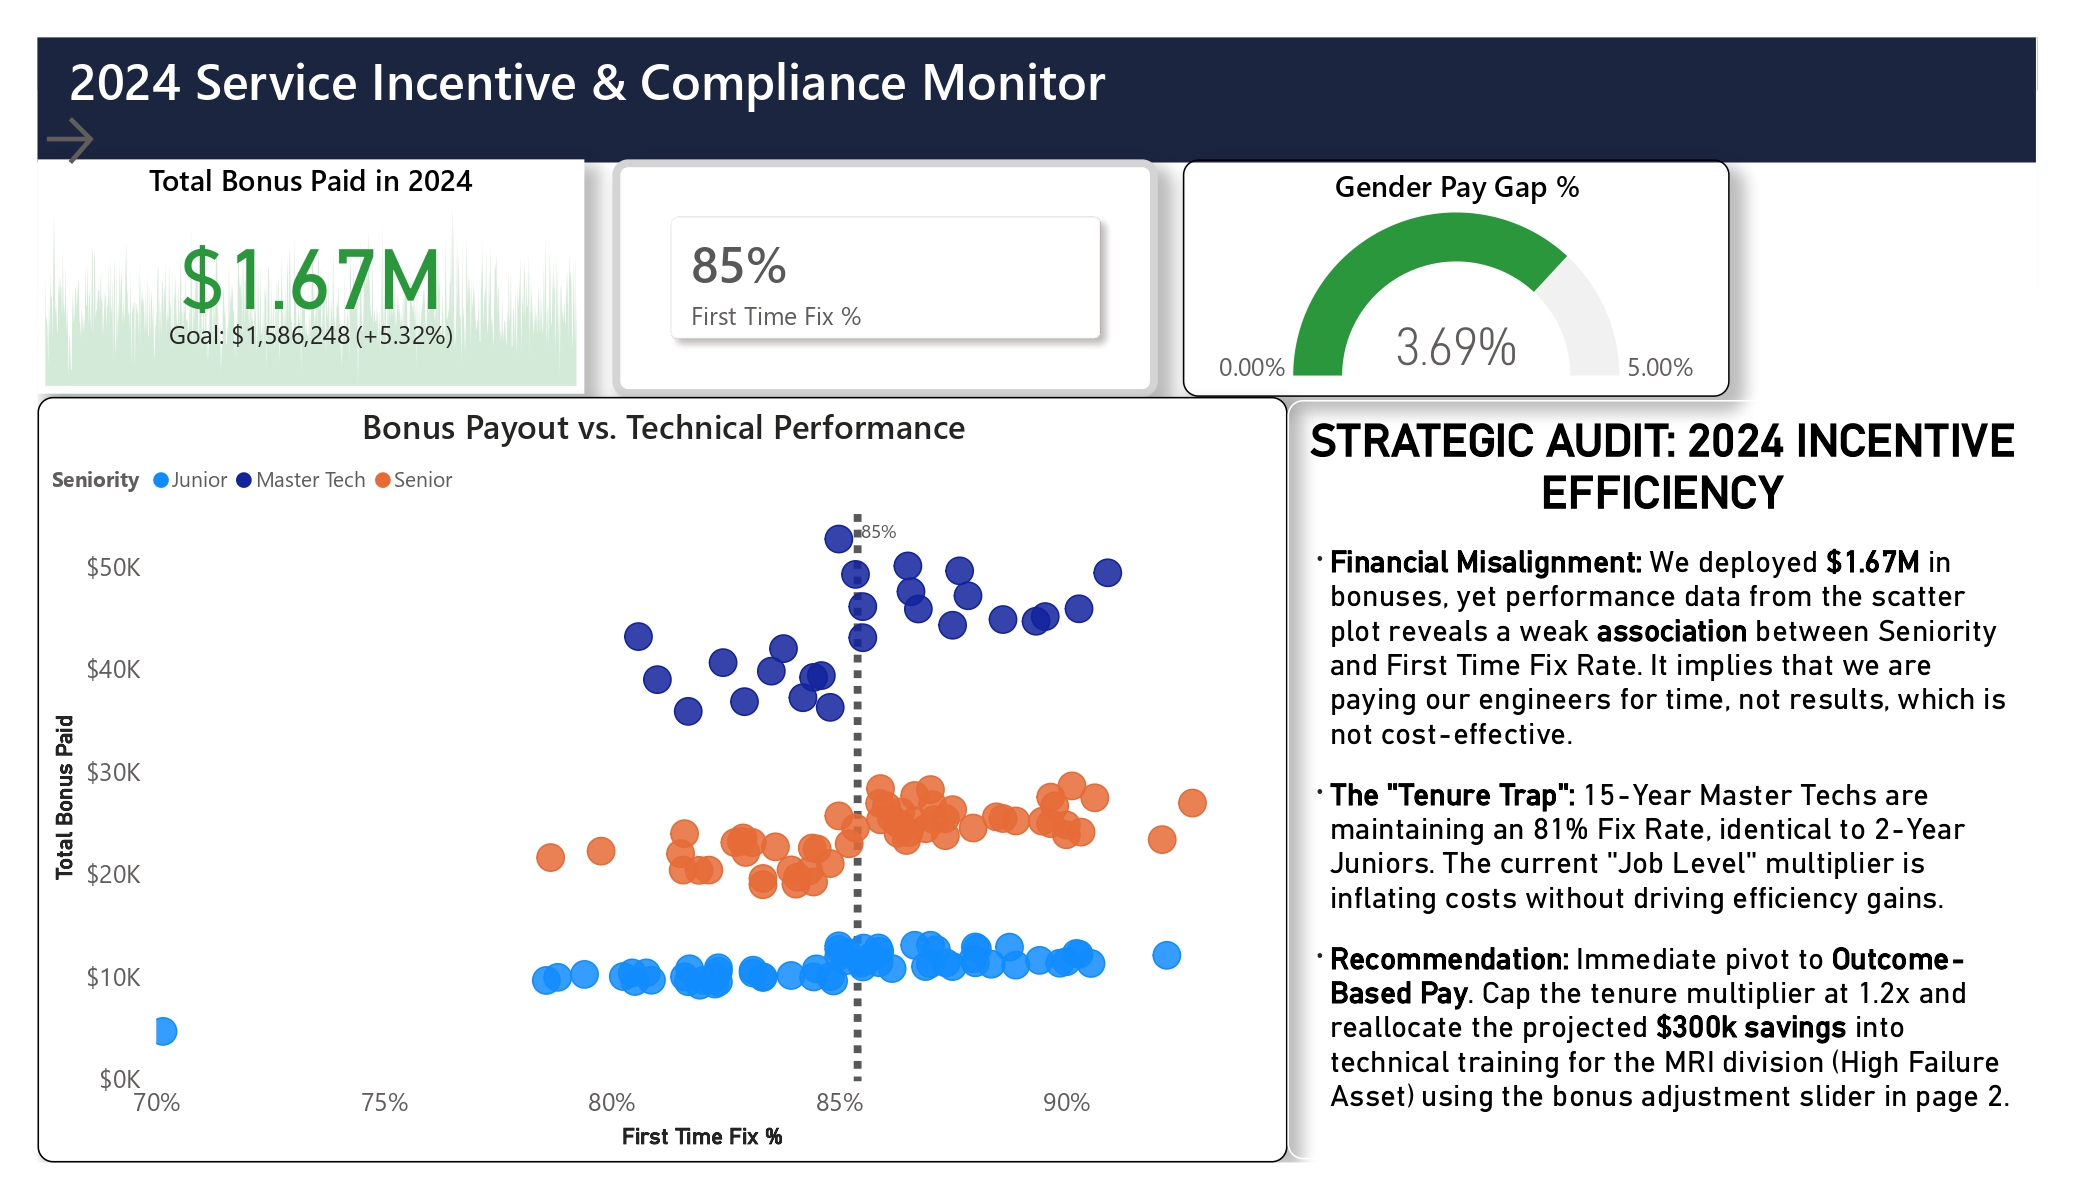

The dashboard page shown, as its layout file describes it:
{"tool":"powerbi","page":{"name":"Executive Summary","canvas":[1280,720],"ordinal":0},"visuals":[{"type":"shape","box":[0,0,1279.4,80],"z":0},{"type":"textbox","box":[0,0,761.7,91.7],"z":1000},{"type":"kpi","title":"Total Bonus Paid in 2024","fields":{"Indicator":["Technicians.Total Bonus Paid"],"TrendLine":["Calendar.Date"],"Goal":["Tickets.Total Bonus PY"]},"box":[0,78.3,350,150],"z":3000},{"type":"cardVisual","fields":{"Data":["Tickets.First Time Fix %"]},"box":[367.7,78.3,349.7,151.3],"z":4000},{"type":"gauge","fields":{"Y":["Technicians.Gender Pay Gap %"]},"box":[733.3,78.3,350,151.7],"z":5000},{"type":"scatterChart","title":"Bonus Payout vs. Technical Performance","fields":{"Category":["Technicians.Name"],"X":["Tickets.First Time Fix %"],"Y":["DAX Measures.Total Bonus Paid"],"Series":["Technicians.Job_Level"]},"box":[0,230,800,490],"z":6000},{"type":"textbox","box":[800,231.7,480,486.7],"z":7000},{"type":"actionButton","box":[0,45.7,100,40],"z":8000}]}

Visuals, with their boxes on the page's 1280x720 design canvas (x1, y1, x2, y2). These are canvas units, not pixel positions in the 2075x1200 screenshot, which may show the page scaled, cropped or inside an application window:
shape: x1=0 y1=0 x2=1279 y2=80
textbox: x1=0 y1=0 x2=762 y2=92
"Total Bonus Paid in 2024" kpi: x1=0 y1=78 x2=350 y2=228
cardVisual - Tickets.First Time Fix %: x1=368 y1=78 x2=717 y2=230
gauge - Technicians.Gender Pay Gap %: x1=733 y1=78 x2=1083 y2=230
"Bonus Payout vs. Technical Performance" scatterChart: x1=0 y1=230 x2=800 y2=720
textbox: x1=800 y1=232 x2=1280 y2=718
actionButton: x1=0 y1=46 x2=100 y2=86
